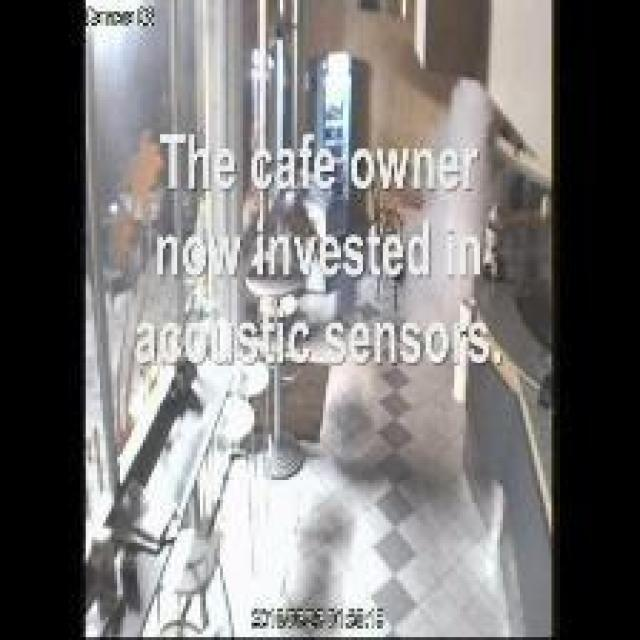fire: (393, 75, 496, 338)
